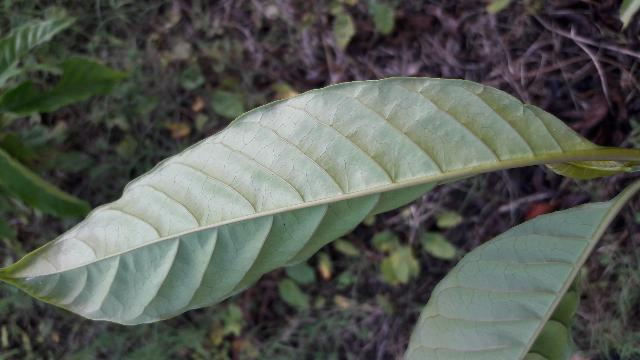healthy: (0, 78, 627, 325)
